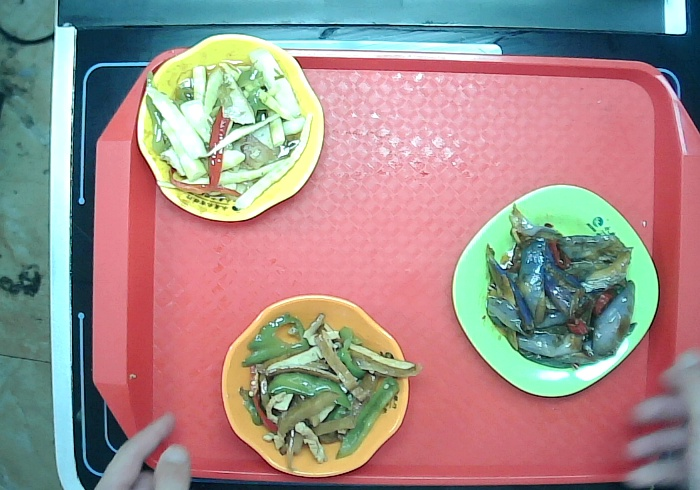YKMZ-Huang_Se_Ao_Bian_Wan: (137, 32, 325, 224)
YKMZ-Ju_Se_Ao_Bian_Wan: (220, 295, 412, 479)
YKMZ-Lv_Se_Fang_Die: (451, 183, 661, 400)
